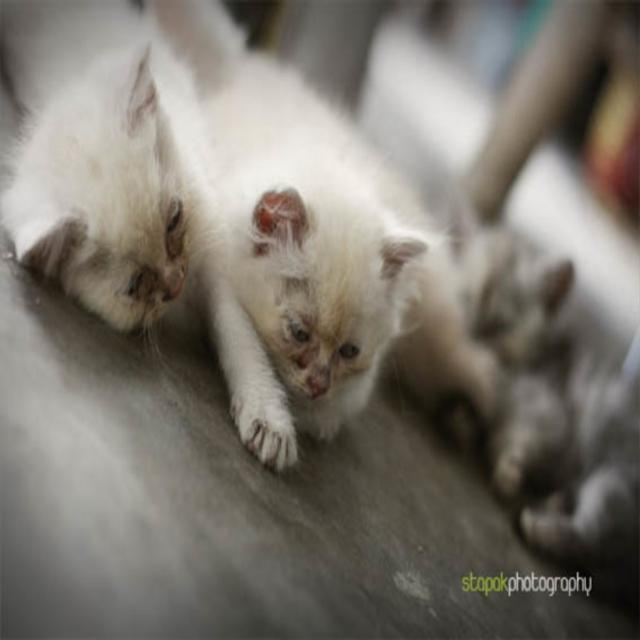Cat: (204, 0, 461, 469), (0, 0, 222, 358), (429, 213, 639, 561)
